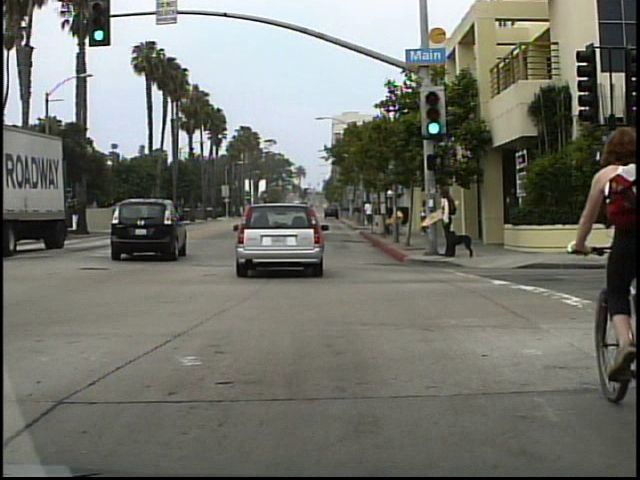person: (438, 185, 461, 253), (365, 197, 377, 231)
